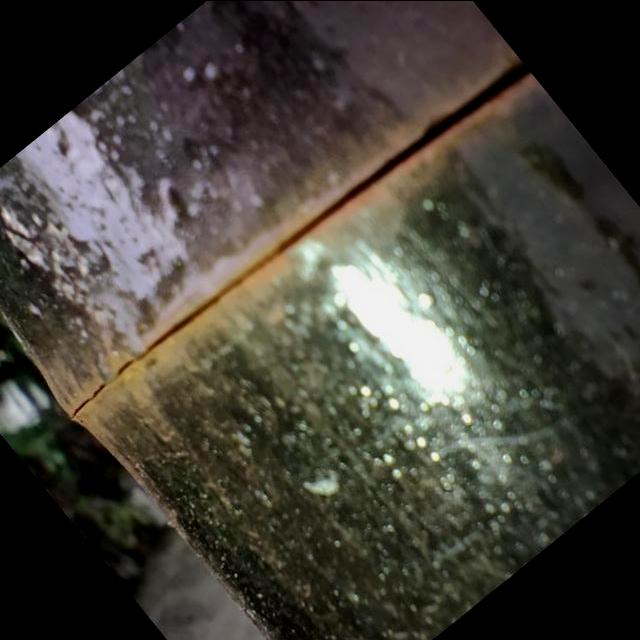defect: (69, 58, 536, 426)
